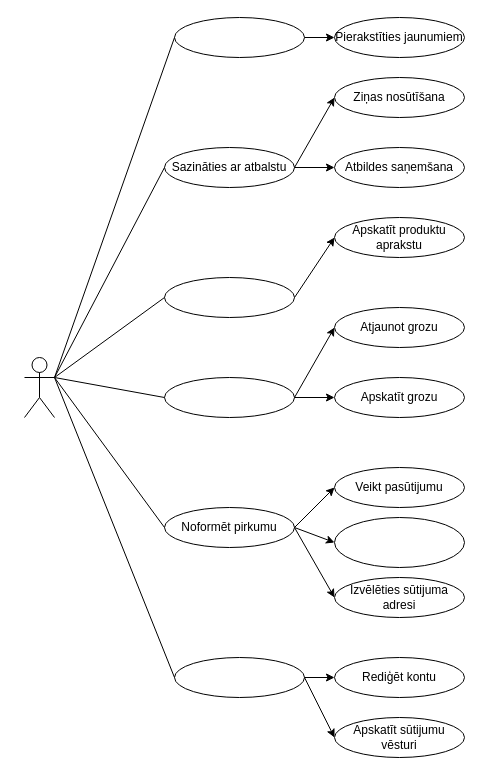
The diagram is 482 pixels wide and 775 high, and some of its shapes have lost their labels. The shapes that lost their labels are listed below. From the top down, each one's centre as x and y in pixels, then its label:
the point at 239,37: Jaunumu abonēšana
the point at 229,297: Produktu meklēšana
the point at 39,387: Lietotājs
the point at 229,397: Pievienot grozam
the point at 399,542: Izvēlēties maksājuma metodi
the point at 239,677: Pārvaldīt kontu
